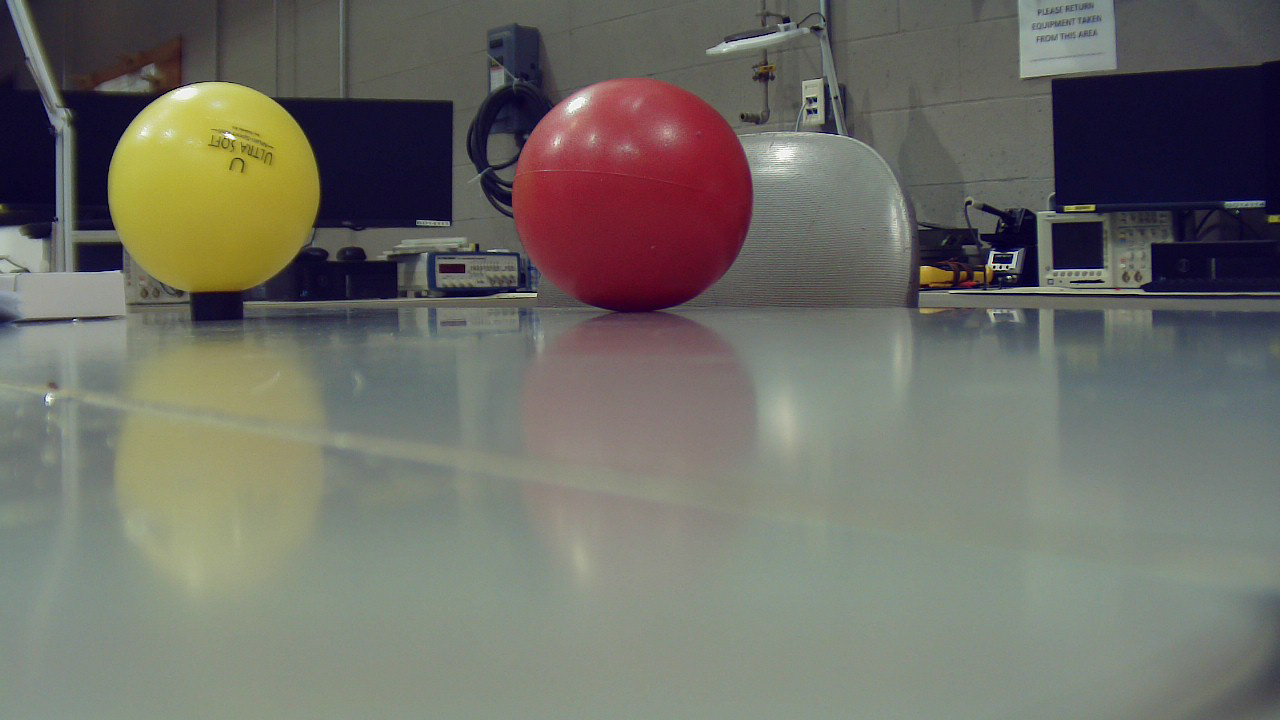redBall: (513, 79, 762, 321)
yellowBall: (107, 84, 329, 299)
